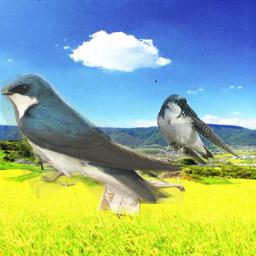Swallow: (1, 73, 184, 204), (155, 93, 242, 166)
